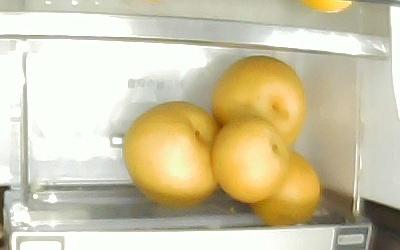pear: (122, 100, 221, 207), (212, 55, 307, 152), (210, 115, 288, 204), (249, 151, 319, 226)
